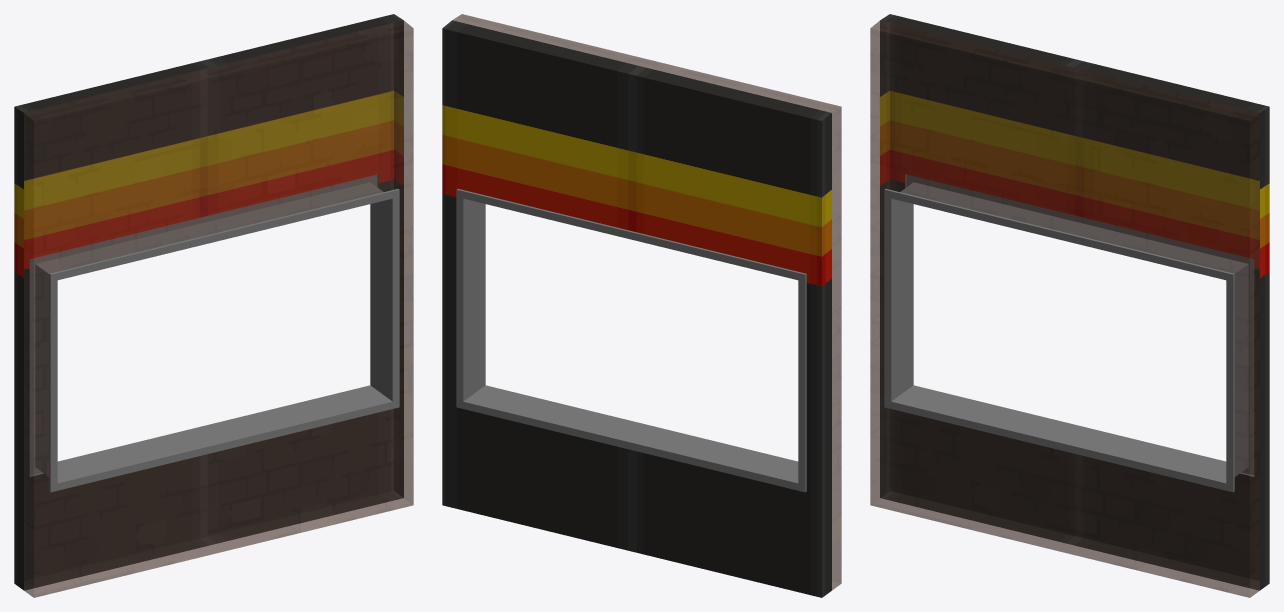
Rendered from SM_Bld_Base_Wall_Window_Double_01_996.obj.
3 views of the same model, side by side, from view 1: azimuth 30°, elevation 25°; view 2: azimuth 150°, elevation 25°; view 3: azimuth 330°, elevation 25° (orthographic).
Parts seen in each view (by area): view 1: SM_Bld_Base_Wall_Window_Double_01_2, SM_Bld_Base_Wall_Window_Double_01_1, SM_Bld_Base_Wall_Window_Double_01_0; view 2: SM_Bld_Base_Wall_Window_Double_01_1, SM_Bld_Base_Wall_Window_Double_01_0, SM_Bld_Base_Wall_Window_Double_01_2; view 3: SM_Bld_Base_Wall_Window_Double_01_2, SM_Bld_Base_Wall_Window_Double_01_1, SM_Bld_Base_Wall_Window_Double_01_0.
Boxes of the visible parts, box(x1,y1,x2,y2) form: SM_Bld_Base_Wall_Window_Double_01_2: box(24, 20, 413, 597); SM_Bld_Base_Wall_Window_Double_01_1: box(14, 14, 403, 590); SM_Bld_Base_Wall_Window_Double_01_0: box(29, 174, 399, 492); SM_Bld_Base_Wall_Window_Double_01_1: box(442, 20, 831, 597); SM_Bld_Base_Wall_Window_Double_01_0: box(456, 188, 806, 492); SM_Bld_Base_Wall_Window_Double_01_2: box(453, 14, 841, 590); SM_Bld_Base_Wall_Window_Double_01_2: box(870, 20, 1259, 597); SM_Bld_Base_Wall_Window_Double_01_1: box(880, 14, 1269, 590); SM_Bld_Base_Wall_Window_Double_01_0: box(884, 174, 1254, 492).
Size of the model in its own units: 2.5 by 3.01 by 0.2556.
3 materials, 3 textured.
